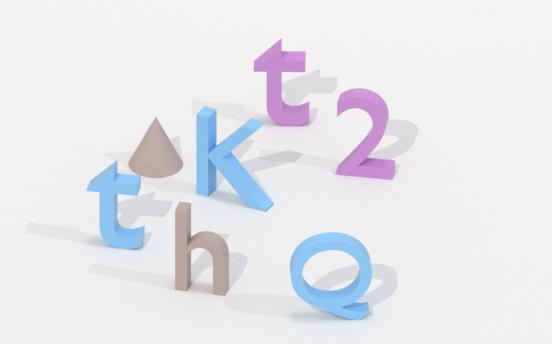2: (333, 85, 397, 183)
h: (170, 198, 241, 301)
k: (188, 104, 280, 217)
non: (127, 115, 185, 181)
q: (286, 228, 372, 324)
t: (251, 34, 313, 130), (85, 159, 146, 252)
